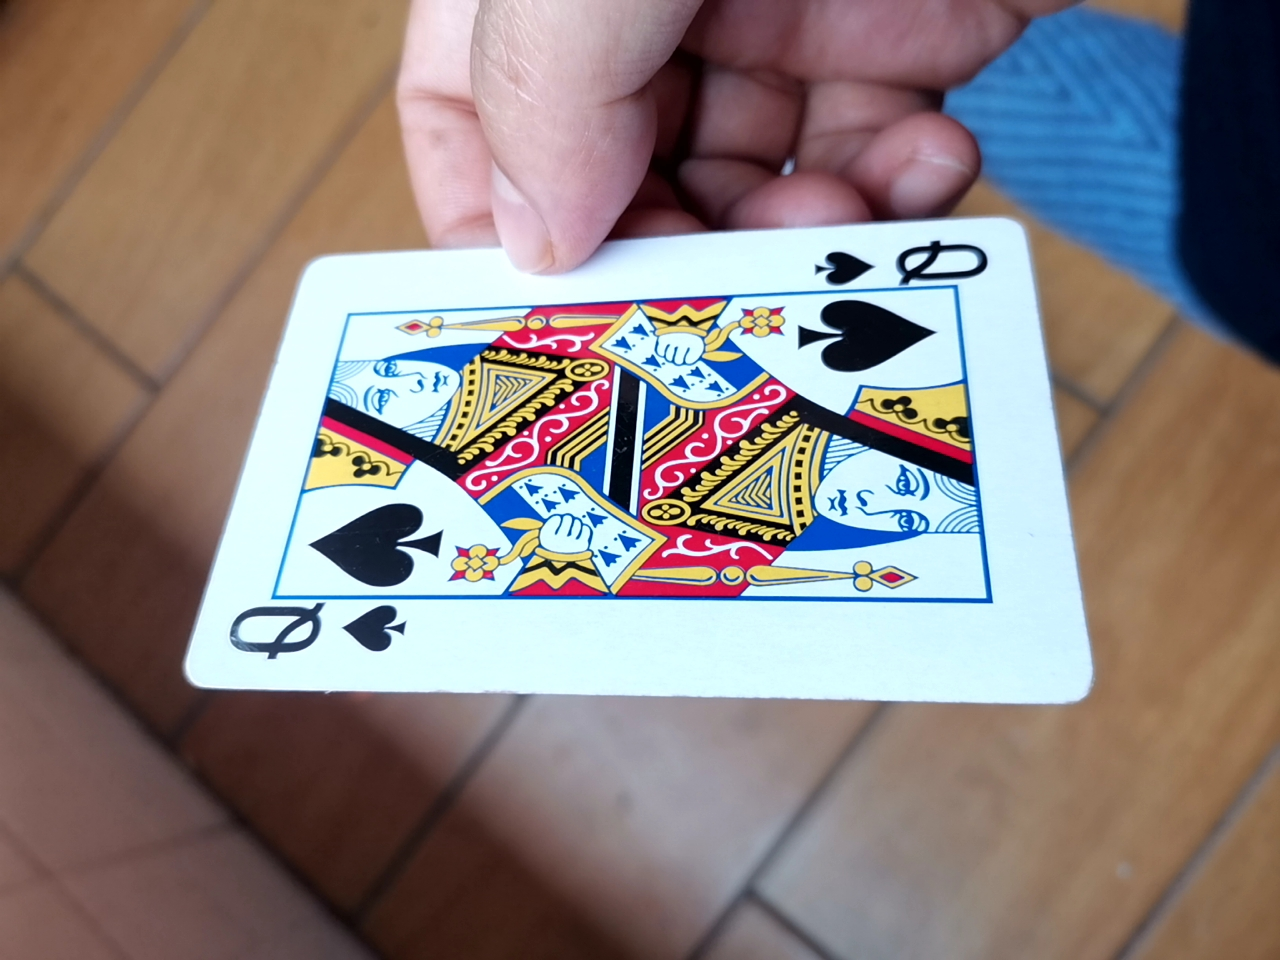ht q: (180, 198, 1091, 712)
